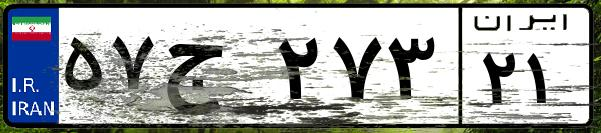1: (525, 38, 570, 115)
2: (270, 28, 330, 110), (475, 38, 525, 113)
3: (385, 28, 445, 110)
5: (57, 26, 110, 100)
7: (330, 28, 385, 110), (110, 28, 158, 98)
ج: (158, 20, 270, 120)
